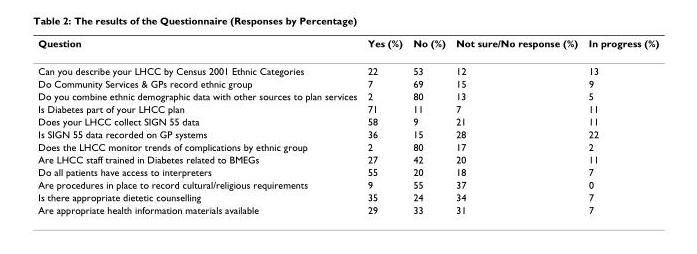table: (37, 36, 658, 215)
table column: (37, 36, 361, 215), (449, 36, 582, 215), (582, 36, 658, 215), (361, 36, 407, 215), (407, 36, 449, 215)
table column header: (37, 36, 658, 56)
table row: (37, 36, 658, 56), (37, 56, 658, 76), (37, 76, 658, 89), (37, 89, 658, 102), (37, 114, 658, 127), (37, 127, 658, 140), (37, 152, 658, 165), (37, 177, 658, 190), (37, 190, 658, 203), (37, 102, 658, 114), (37, 140, 658, 152), (37, 165, 658, 177), (37, 203, 658, 215)
